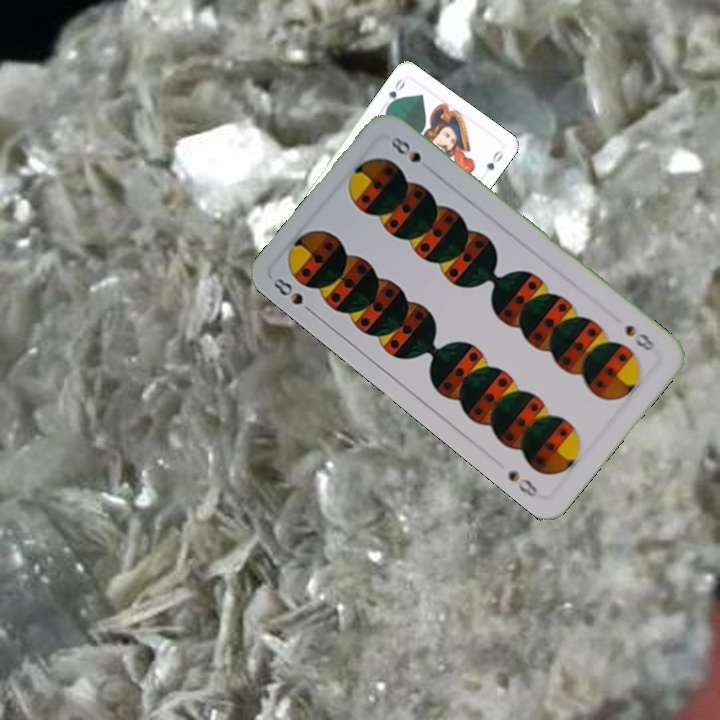GO: (382, 75, 408, 112)
S8: (269, 273, 318, 318), (621, 321, 659, 354)
